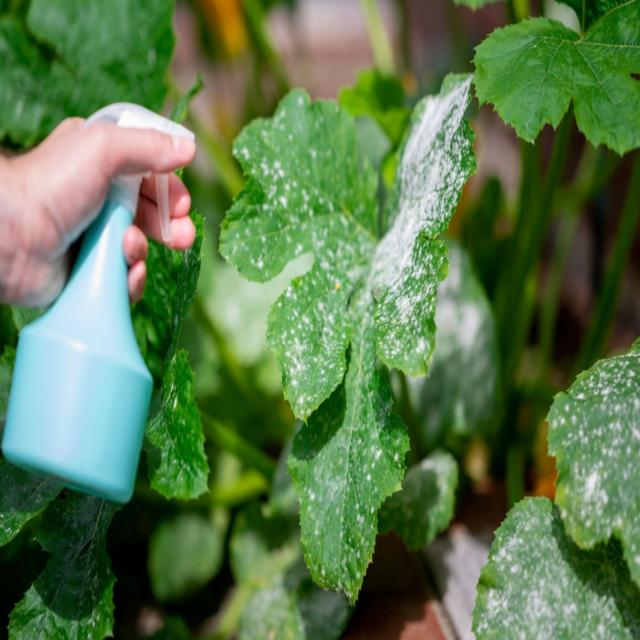Powdery Mildew: (216, 69, 478, 608), (544, 336, 639, 588)
